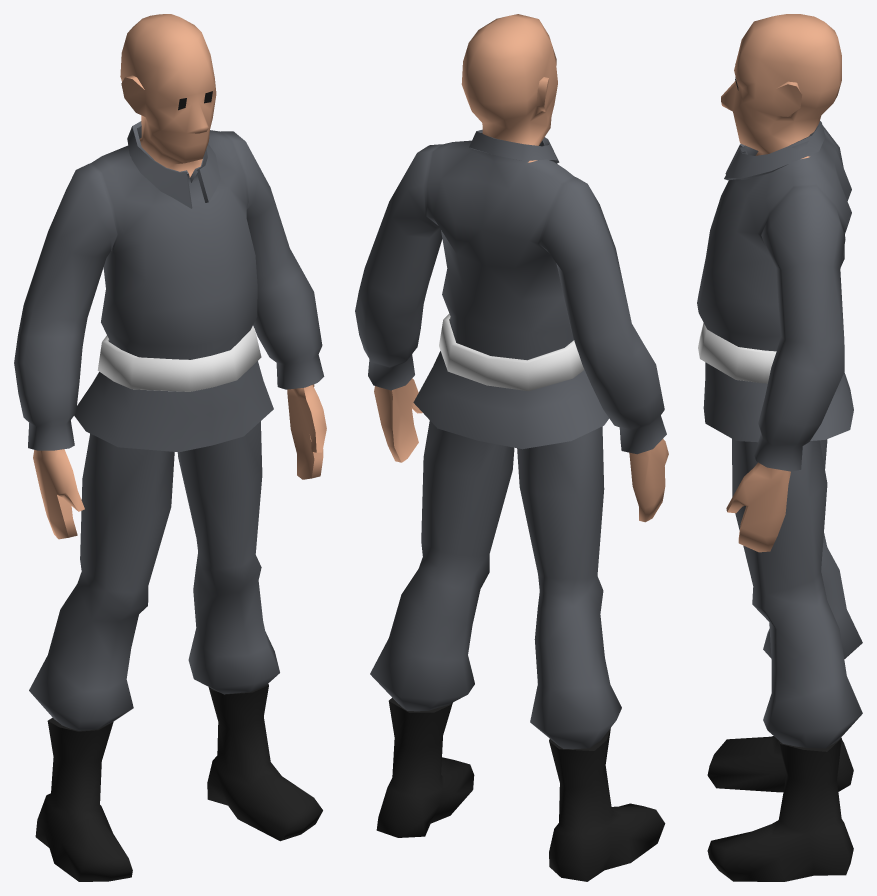
File: SM_Soldier_06.fbx
The picture shows the model from 3 angles, left to right: view 1: azimuth 30°, elevation 25°; view 2: azimuth 150°, elevation 25°; view 3: azimuth 270°, elevation 25°; orthographic projection.
Parts seen in each view (by area): view 1: Soldier_06_Jacket, Soldier_06_Pants, Soldier_06_Boots, Soldier_06_Body, Soldier_06_Belt; view 2: Soldier_06_Jacket, Soldier_06_Pants, Soldier_06_Boots, Soldier_06_Body, Soldier_06_Belt; view 3: Soldier_06_Jacket, Soldier_06_Pants, Soldier_06_Body, Soldier_06_Boots, Soldier_06_Belt.
Part boxes in pixels (x1=…): Soldier_06_Jacket: x1=14, y1=121, x2=324, y2=452; Soldier_06_Pants: x1=29, y1=421, x2=279, y2=730; Soldier_06_Boots: x1=35, y1=684, x2=322, y2=881; Soldier_06_Body: x1=33, y1=14, x2=326, y2=539; Soldier_06_Belt: x1=97, y1=327, x2=261, y2=391; Soldier_06_Jacket: x1=355, y1=129, x2=666, y2=454; Soldier_06_Pants: x1=370, y1=420, x2=621, y2=749; Soldier_06_Boots: x1=376, y1=697, x2=665, y2=881; Soldier_06_Body: x1=374, y1=14, x2=668, y2=522; Soldier_06_Belt: x1=439, y1=313, x2=584, y2=391; Soldier_06_Jacket: x1=697, y1=121, x2=853, y2=471; Soldier_06_Pants: x1=732, y1=439, x2=862, y2=748; Soldier_06_Body: x1=721, y1=14, x2=841, y2=552; Soldier_06_Boots: x1=707, y1=736, x2=853, y2=881; Soldier_06_Belt: x1=698, y1=323, x2=776, y2=383.
Bounding box in the file's own units: 68.26 × 182 × 33.96.
